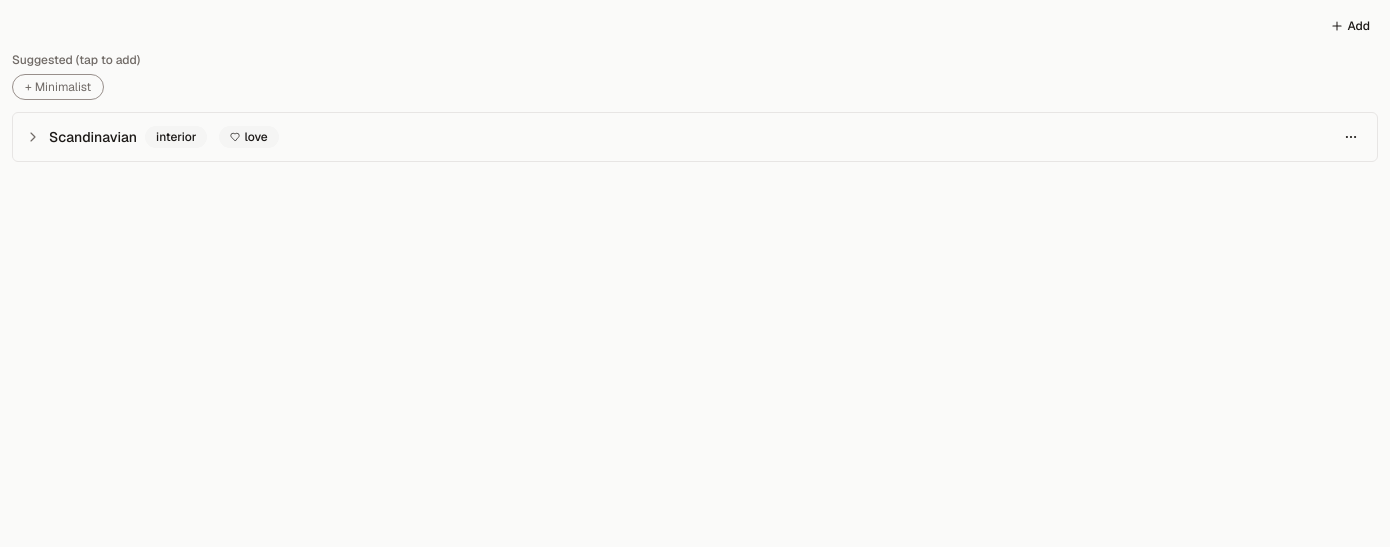
Test: ListRenderer › expands a row on click to reveal its detail fields
The width and height of the screenshot is (1390, 547).
Expected: the field showing "Light wood, muted tones." is not shown
Click the text "Scandinavian" at coordinates (93, 137), box [49,127,137,147]
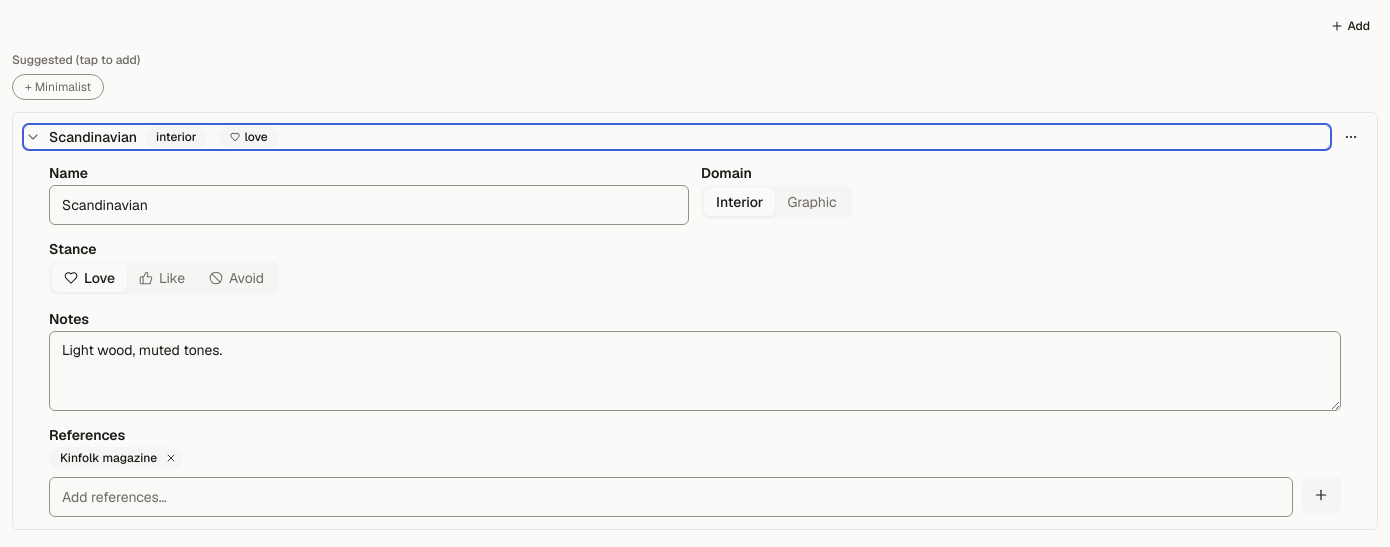
Expected: the text box showing "Light wood, muted tones." is shown, [49,331,1341,411]
Expected: the text "Kinfolk magazine" is shown, [49,447,182,469]
